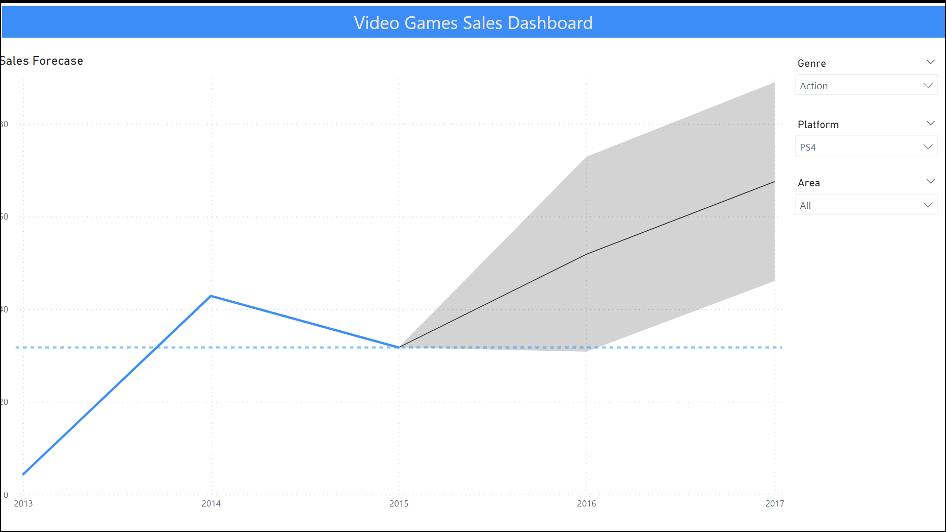

What the dashboard file says about the page in this screenshot:
{"tool":"powerbi","page":{"name":"Forecast","canvas":[1280,720],"ordinal":2},"visuals":[{"type":"lineChart","title":"Sales Forecase","fields":{"Category":["vgsales.Year"],"Y":["Sum(vgsales.Sales)"]},"box":[0,72.8,1068.5,623.5],"z":0},{"type":"textbox","box":[9.6,10,1270.4,42.5],"z":1},{"type":"slicer","fields":{"Values":["vgsales.Genre"]},"box":[1068.5,72.8,211.5,72.8],"z":2},{"type":"slicer","fields":{"Values":["vgsales.Platform"]},"box":[1068.5,155.2,211.5,72.8],"z":3},{"type":"slicer","fields":{"Values":["vgsales.Area"]},"box":[1068.5,233.5,211.5,72.8],"z":4}]}

Visuals, with their boxes in screenshot pixels (x1, y1, x2, y2), scaled from the page's 1280x720 canvas onto the 946x532 screenshot:
"Sales Forecase" lineChart: bbox(0, 54, 790, 514)
textbox: bbox(7, 7, 945, 39)
slicer - vgsales.Genre: bbox(790, 54, 945, 108)
slicer - vgsales.Platform: bbox(790, 115, 945, 168)
slicer - vgsales.Area: bbox(790, 173, 945, 226)
